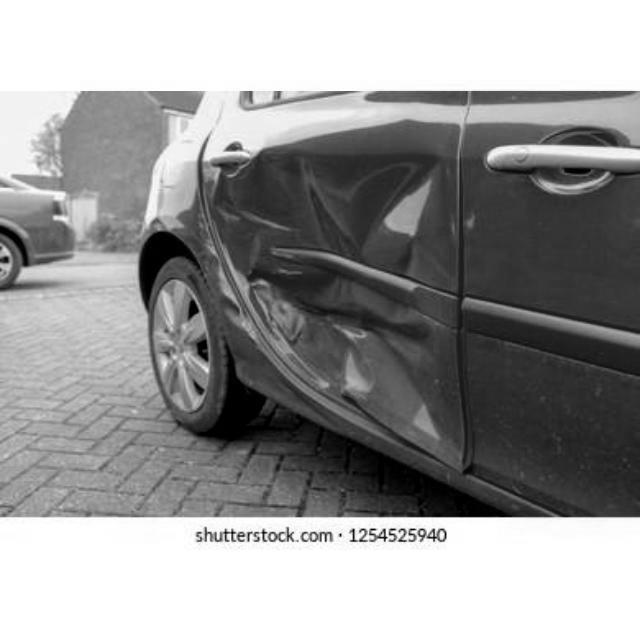doorouter-dent: (218, 92, 464, 377)
